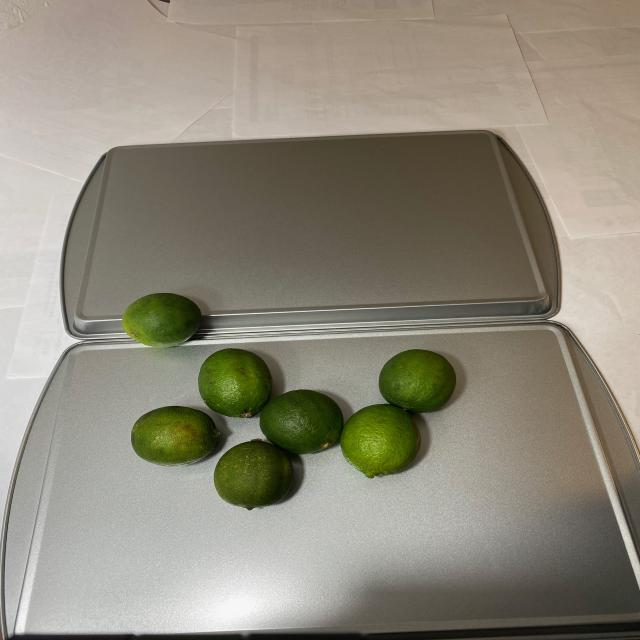lemon: (119, 293, 455, 512)
